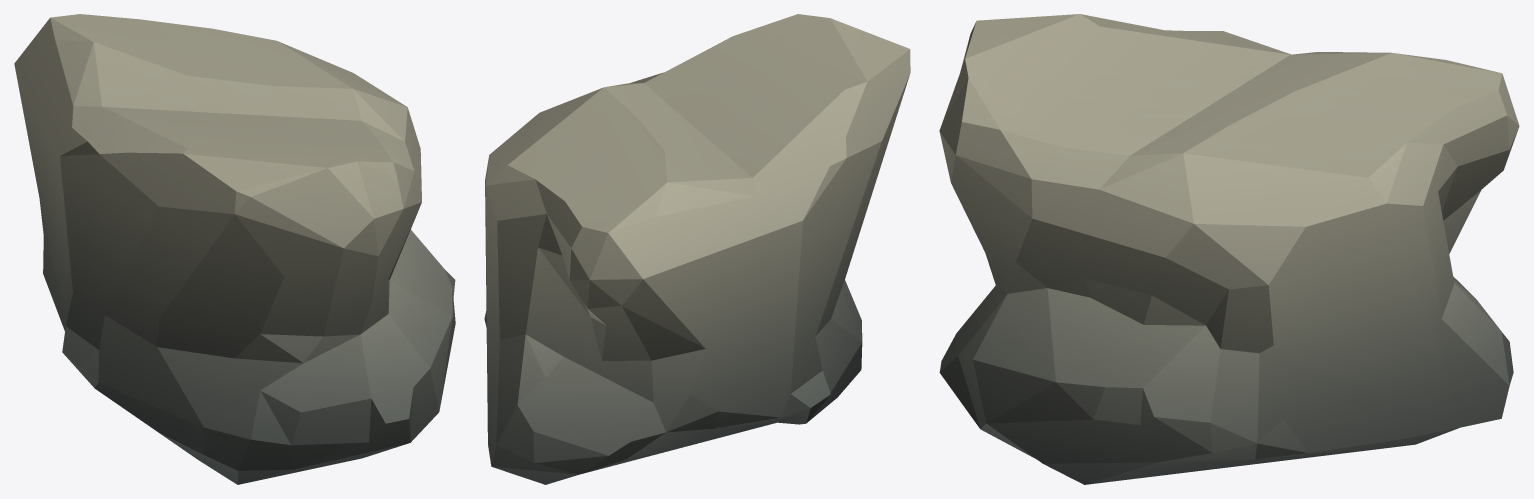
The model's file is rock_3_07.fbx.
3 views of the same model, side by side, from view 1: azimuth 30°, elevation 25°; view 2: azimuth 150°, elevation 25°; view 3: azimuth 270°, elevation 25° (orthographic). The views are drawn at different scales.
Visible parts, largest first — view 1: rock_3_07; view 2: rock_3_07; view 3: rock_3_07.
Boxes of the visible parts, box(x1,y1,x2,y2) form: rock_3_07: box(14, 14, 455, 484); rock_3_07: box(484, 14, 910, 484); rock_3_07: box(939, 14, 1519, 484).
Bounding box in the file's own units: 55.41 × 54.42 × 76.17.
